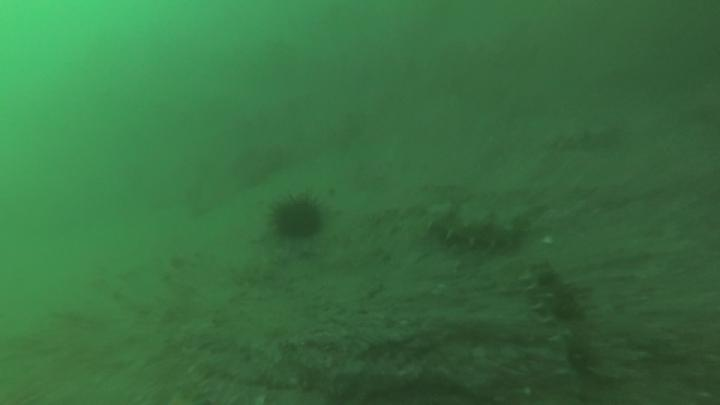echinus: (273, 198, 321, 238)
holothurian: (517, 261, 594, 398), (425, 204, 519, 252)
